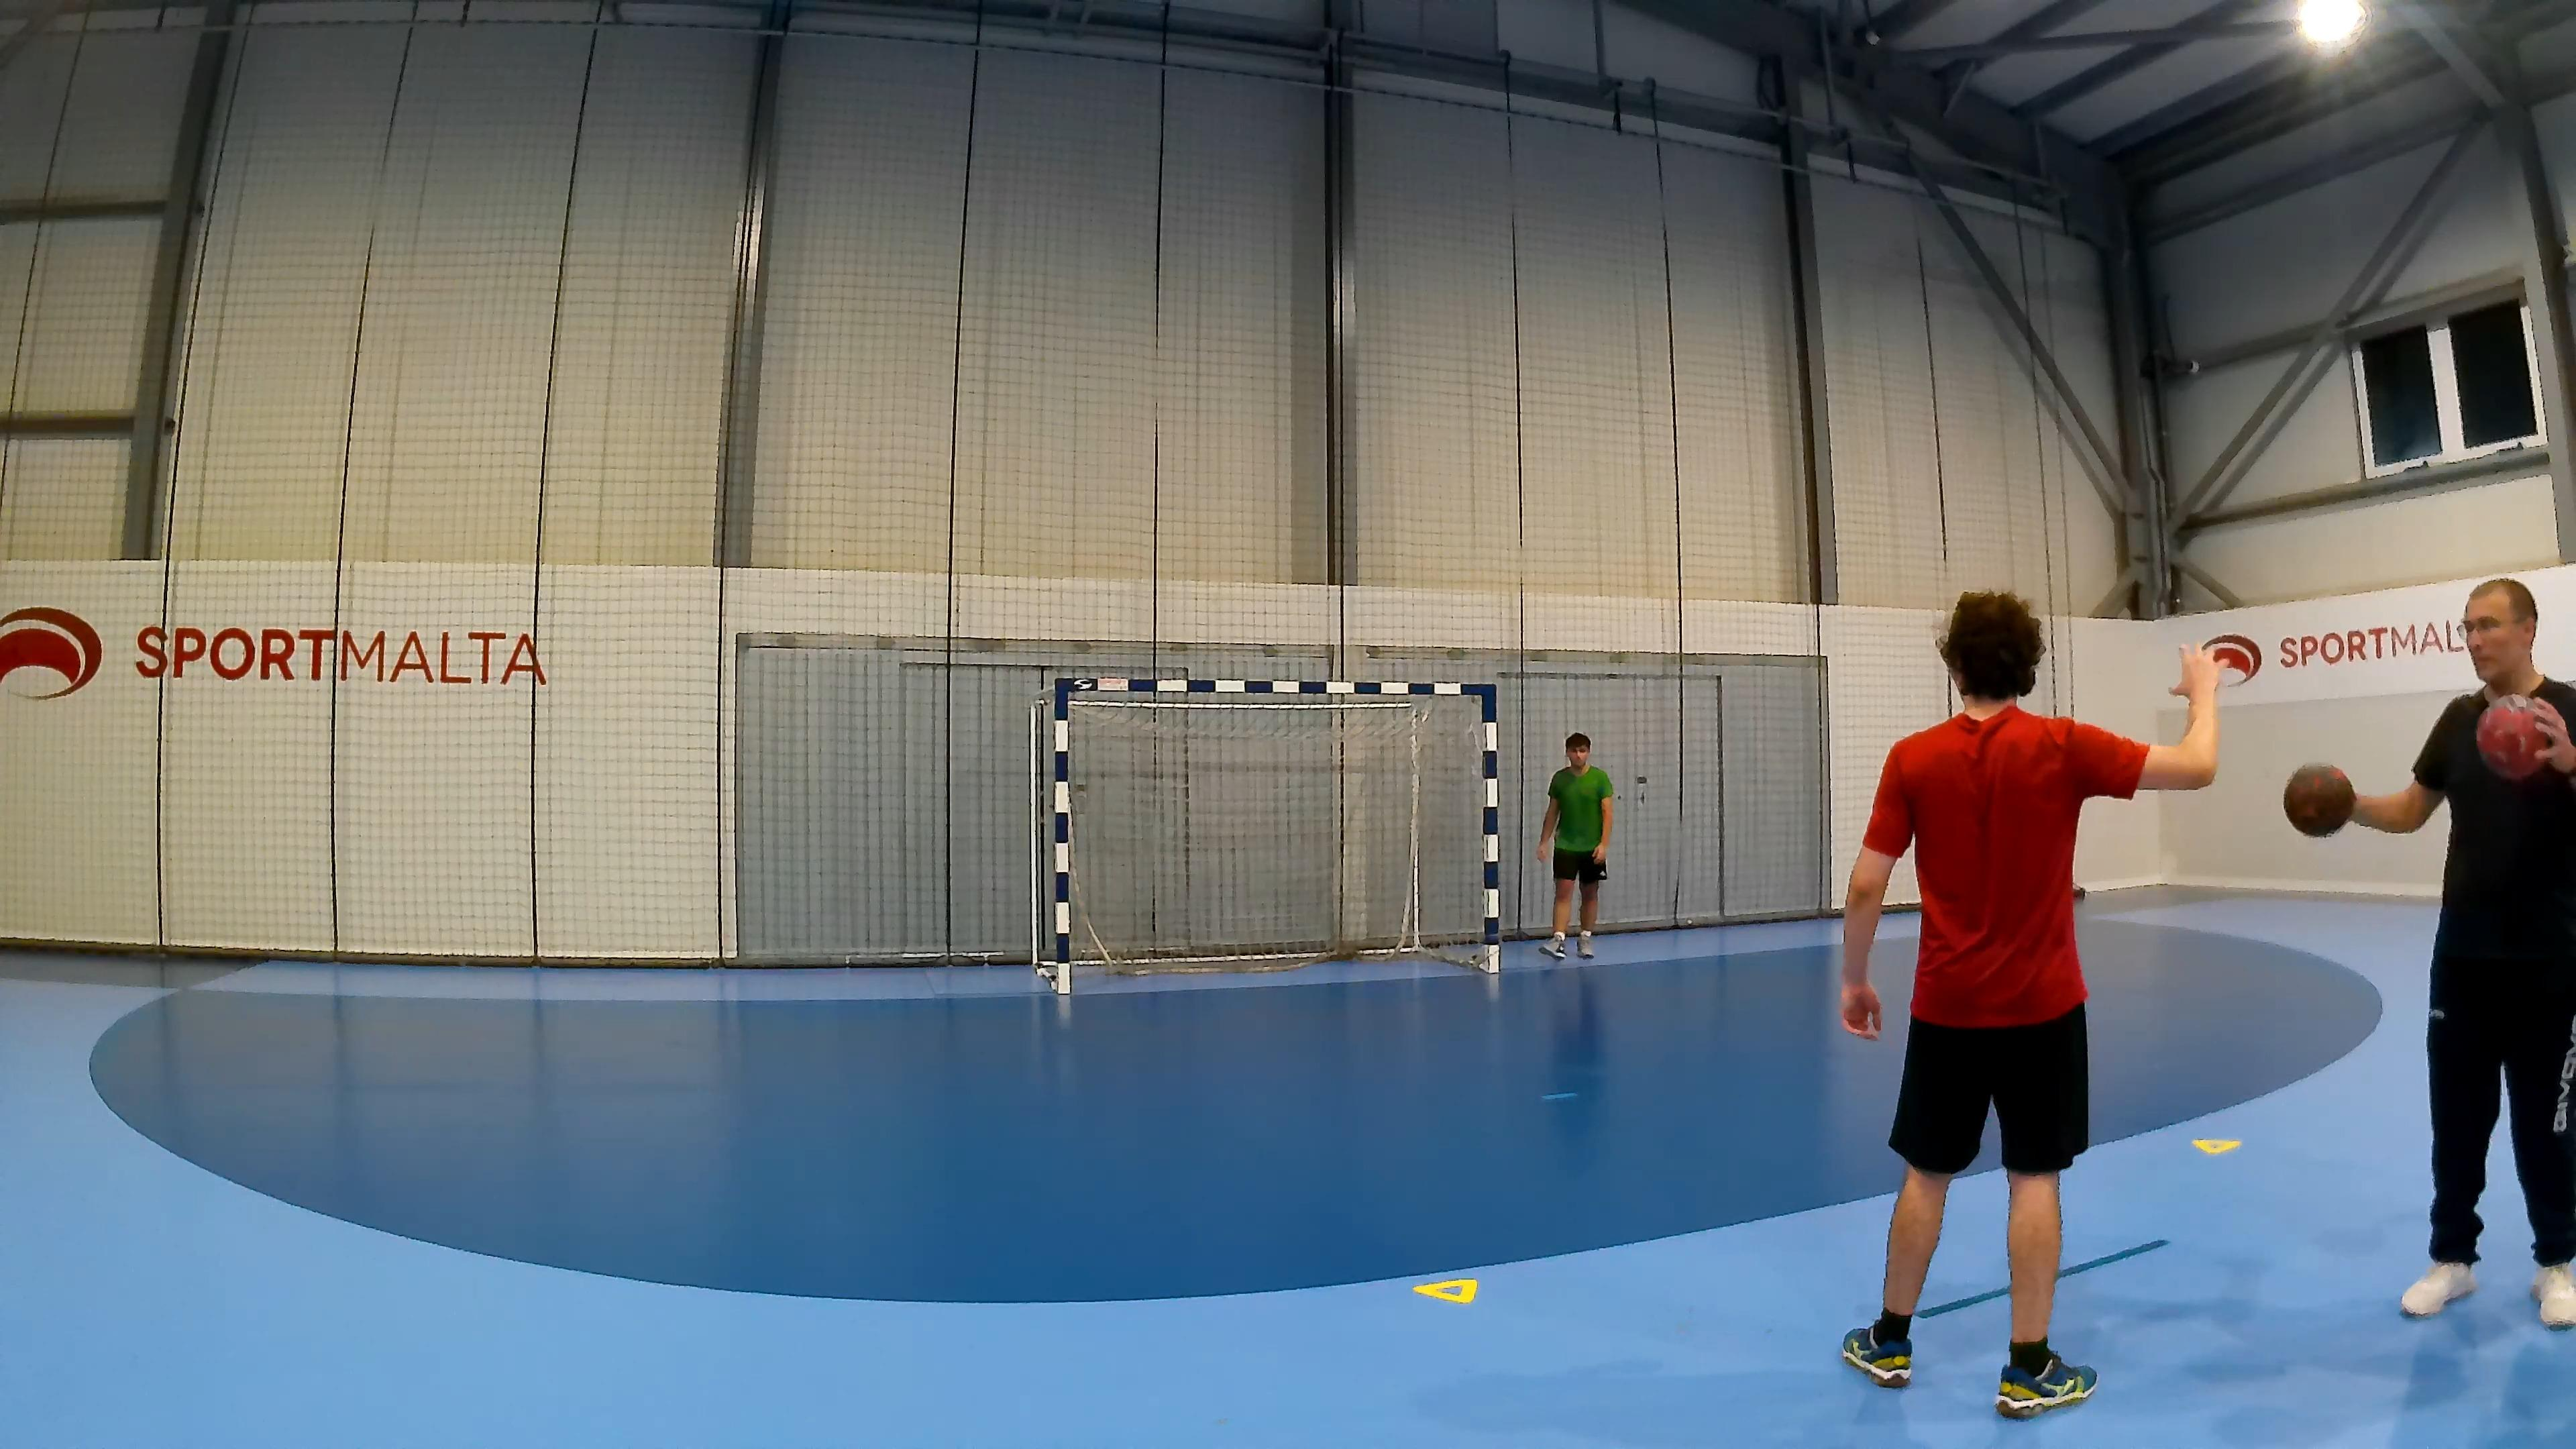handball: (2473, 694, 2551, 780), (2282, 763, 2355, 837)
